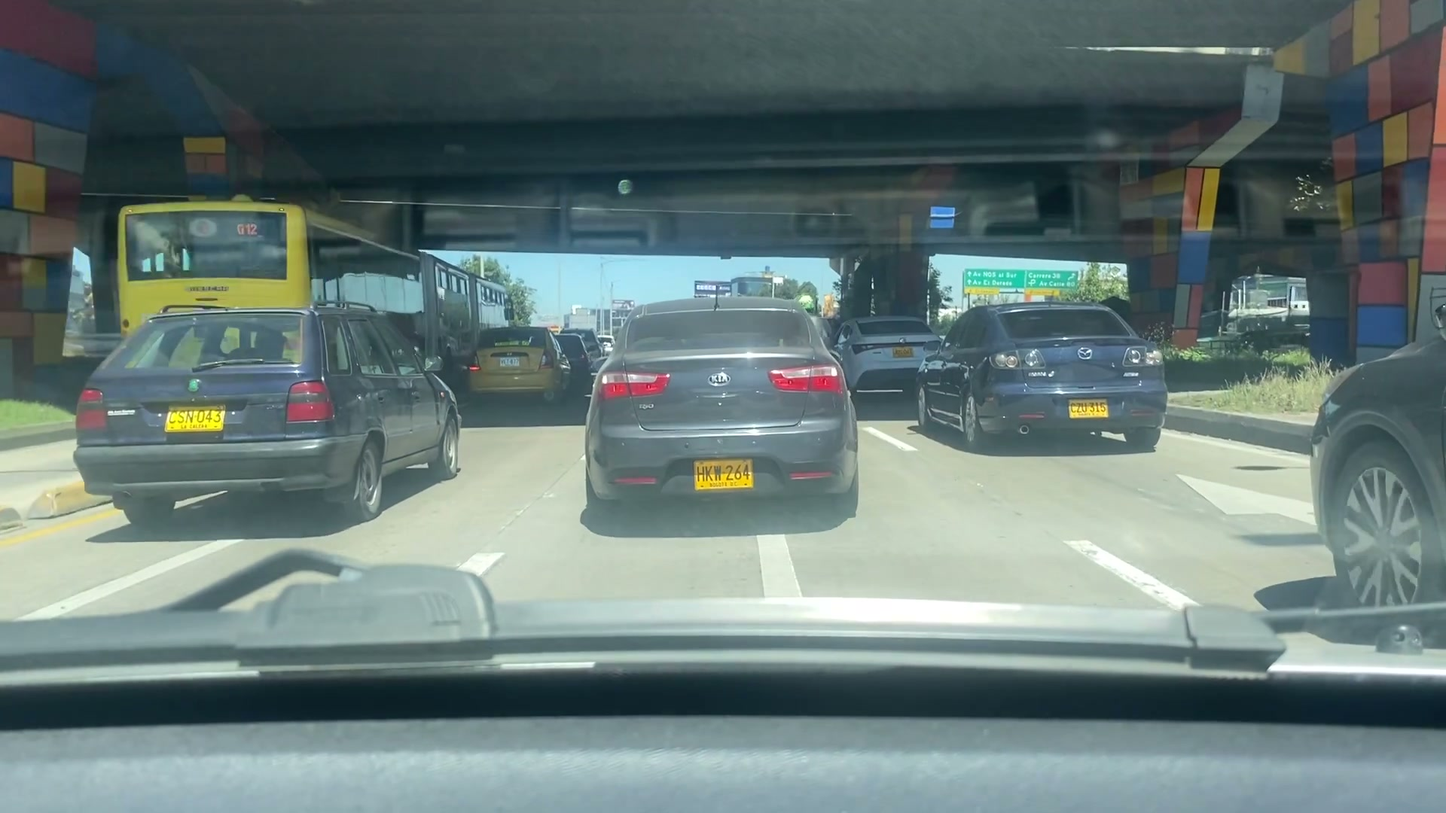car: (72, 302, 464, 524), (590, 300, 862, 530), (1307, 293, 1446, 644), (920, 304, 1164, 454), (456, 324, 573, 401), (826, 319, 944, 391)
